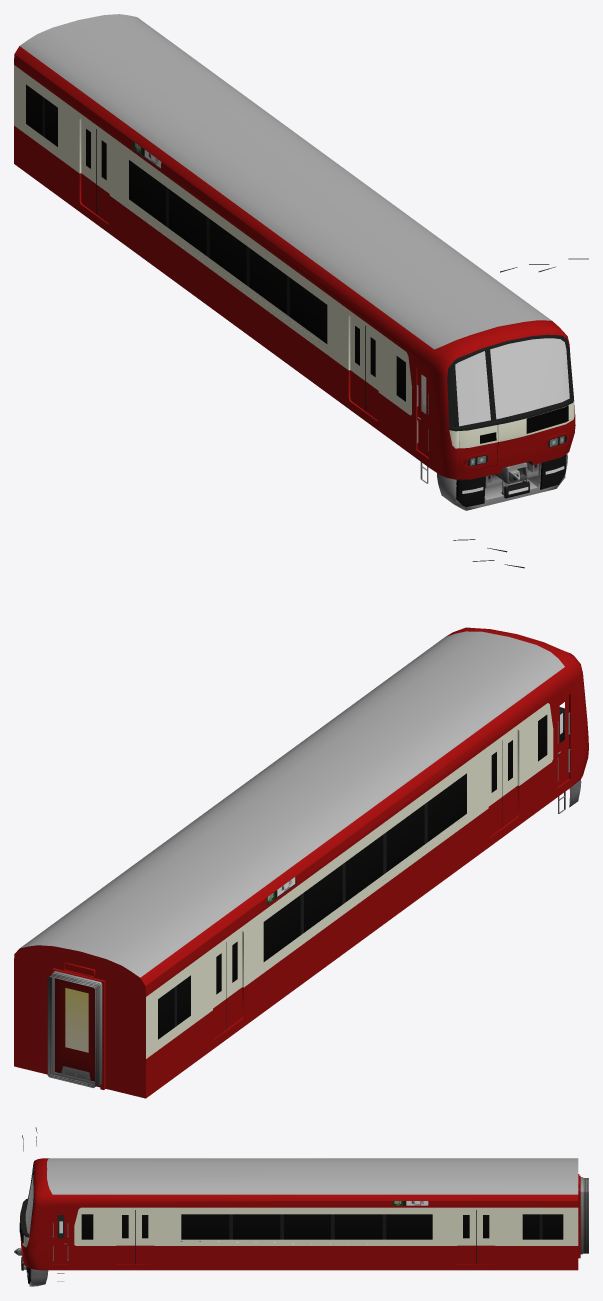
3 views of the same model, one above another, from view 1: azimuth 30°, elevation 25°; view 2: azimuth 150°, elevation 25°; view 3: azimuth 270°, elevation 25° (orthographic). The views are drawn at different scales.
Parts seen in each view (by area): view 1: obj10; view 2: obj10; view 3: obj10.
Part boxes in pixels (box(x1,y1,x2,y2)): obj10: box(14, 14, 575, 510); obj10: box(14, 627, 588, 1098); obj10: box(14, 1158, 588, 1286).
Size of the model in its own units: 6.93 by 11.18 by 39.65.
Materials: 34 (33 with a texture image).
